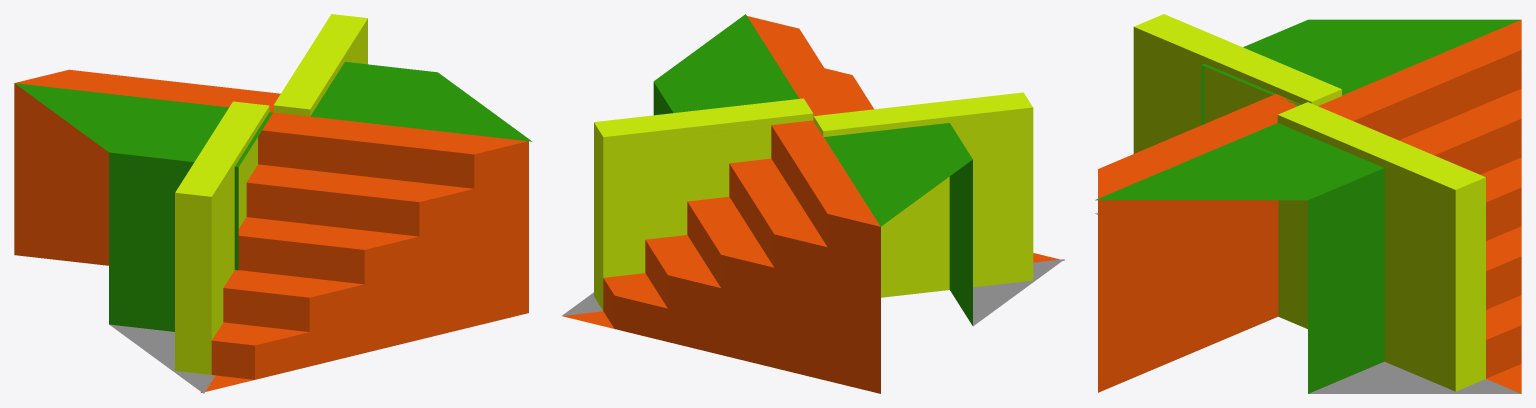
The picture shows the model from 3 angles, left to right: view 1: azimuth 30°, elevation 25°; view 2: azimuth 150°, elevation 25°; view 3: azimuth 270°, elevation 25°; orthographic projection. The views are drawn at different scales.
Parts seen in each view (by area): view 1: T_a_a_0; view 2: T_a_a_0; view 3: T_a_a_0.
Part boxes in pixels (x1,y1,x2,y2): T_a_a_0: (14,14,531,393); T_a_a_0: (562,14,1064,393); T_a_a_0: (1095,14,1521,393).
Size of the model in its own units: 100 by 51.98 by 99.79.
